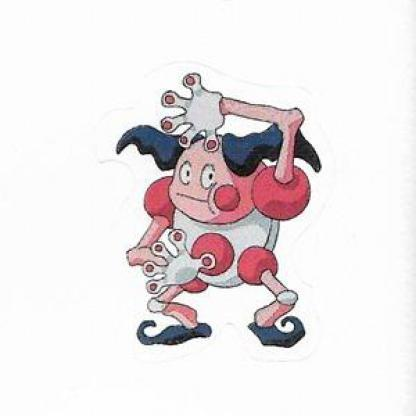Mr. Mime: (23, 18, 416, 416)
